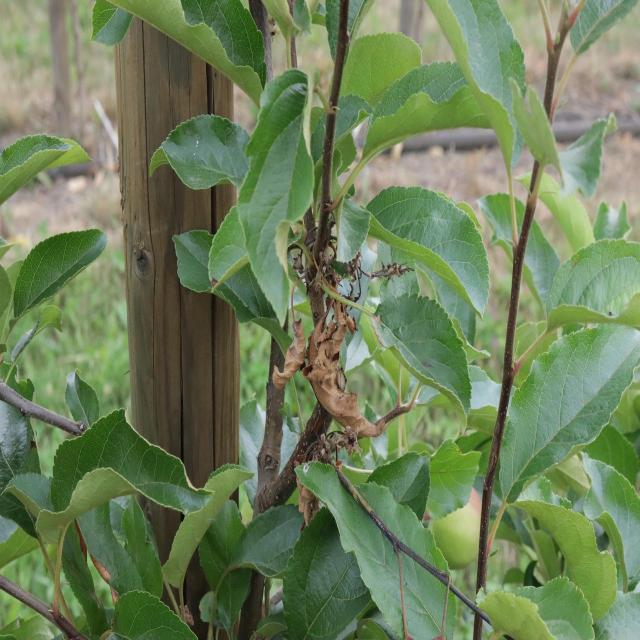-FireBlight-: (284, 267, 382, 453)
